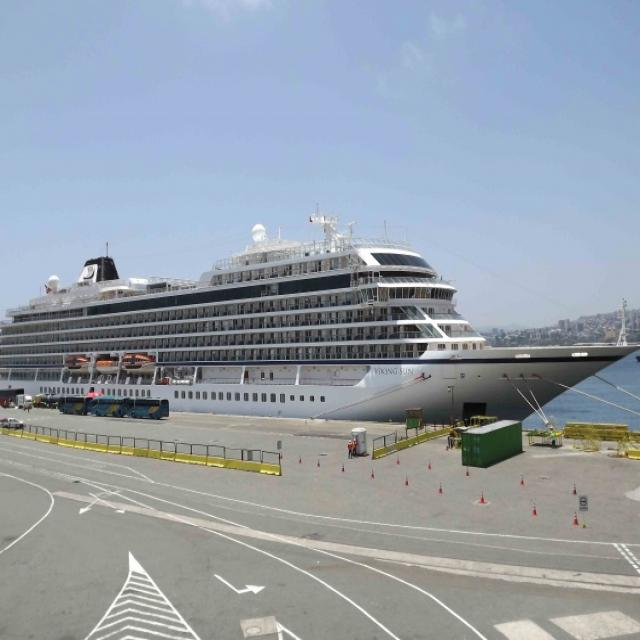cruises: (1, 231, 640, 435)
